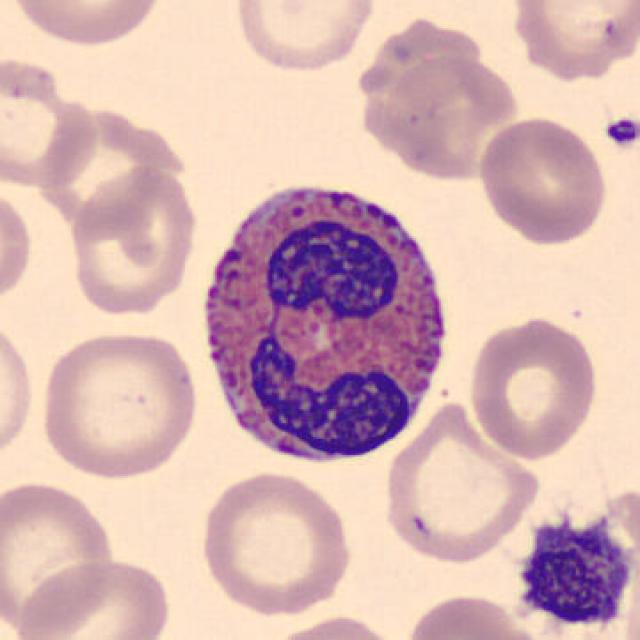Basophil: (503, 486, 640, 640)
Eosinophil: (187, 164, 462, 478)
Platelets: (601, 112, 638, 152)
RBC: (377, 397, 546, 568), (35, 328, 201, 483), (356, 42, 524, 185), (196, 467, 356, 617), (64, 161, 203, 319), (464, 312, 601, 460), (42, 109, 185, 244), (352, 12, 488, 148), (0, 476, 117, 633), (473, 113, 610, 247), (12, 553, 175, 640), (0, 52, 101, 192), (230, 0, 380, 76), (504, 0, 638, 79), (5, 0, 168, 49), (402, 590, 546, 640), (0, 314, 37, 471), (0, 180, 36, 314), (259, 612, 409, 640)
